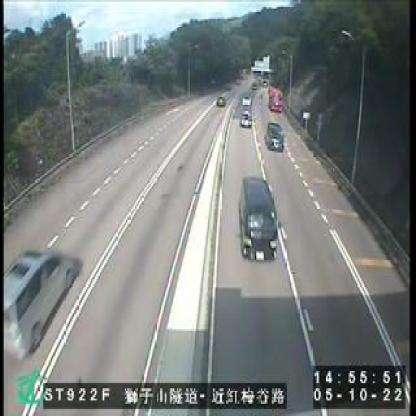Bus: (268, 85, 283, 113)
Car: (5, 244, 73, 362), (239, 177, 277, 262), (264, 120, 283, 149), (239, 111, 250, 126), (240, 95, 250, 104)
